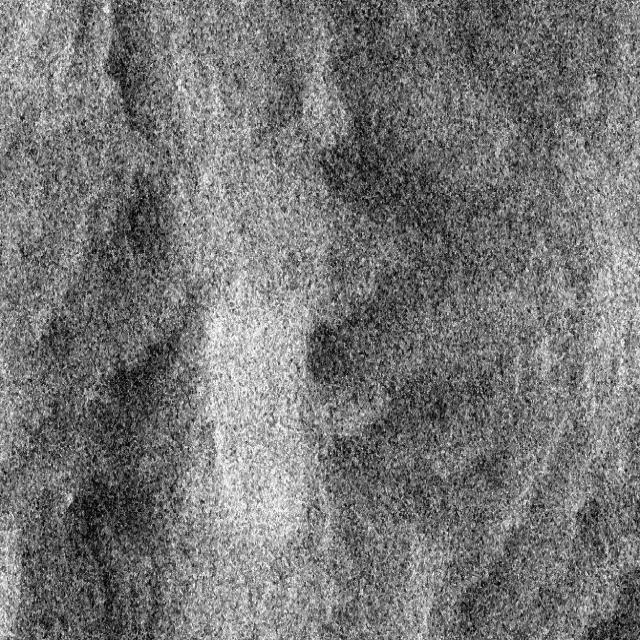look-alike: (69, 323, 184, 637), (368, 377, 446, 504), (303, 294, 387, 398), (108, 158, 172, 266), (108, 39, 160, 138), (581, 555, 640, 640)
